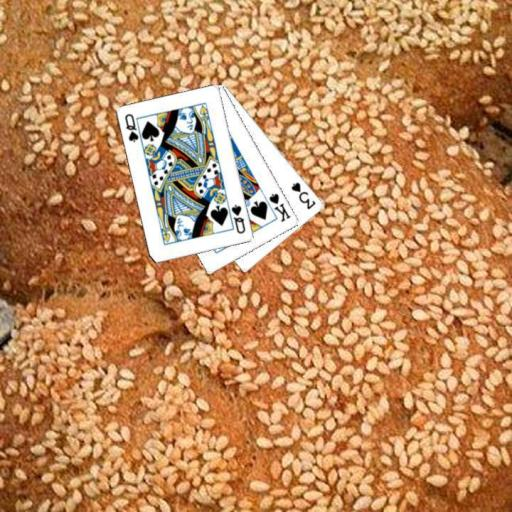card-corner: (288, 179, 317, 211), (266, 190, 292, 223), (228, 202, 247, 236), (122, 111, 140, 144)
